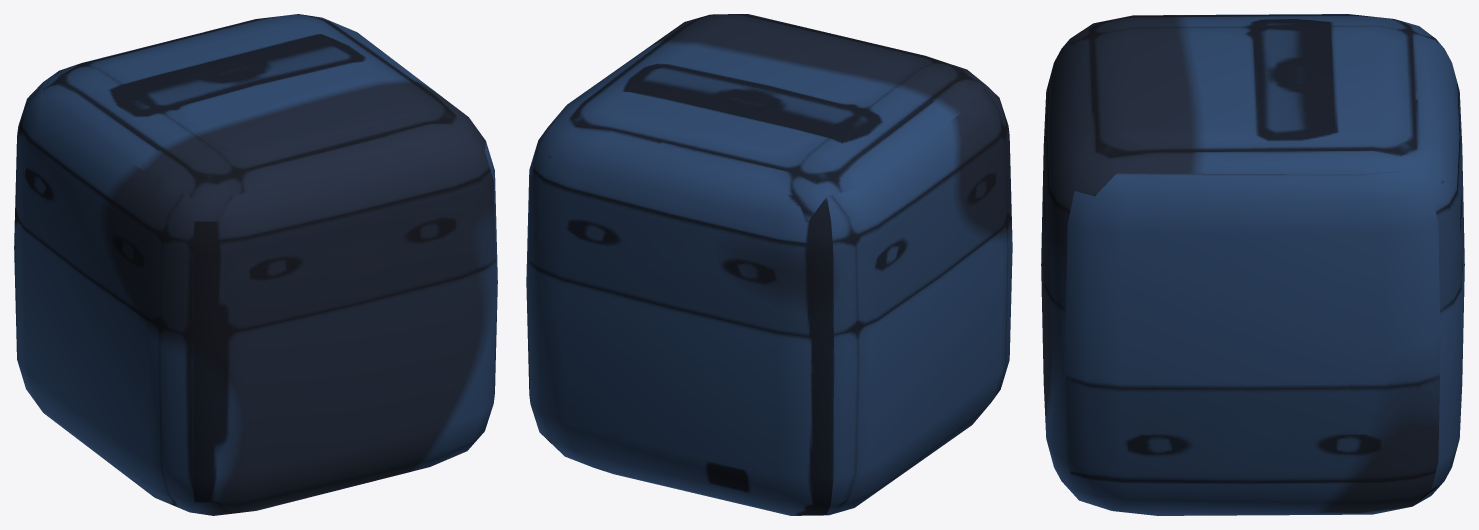
The model's file is Tano_MangaArribaDer.fbx.
3 renders of one model, left to right at view 1: azimuth 30°, elevation 25°; view 2: azimuth 150°, elevation 25°; view 3: azimuth 270°, elevation 25°, orthographic. The views are drawn at different scales.
Visible parts, largest first — view 1: Tano_MangaArribaDer; view 2: Tano_MangaArribaDer; view 3: Tano_MangaArribaDer.
Part boxes in pixels (x1=…): Tano_MangaArribaDer: x1=14, y1=14, x2=497, y2=515; Tano_MangaArribaDer: x1=526, y1=14, x2=1012, y2=515; Tano_MangaArribaDer: x1=1041, y1=14, x2=1464, y2=515.
Bounding box in the file's own units: 1.25 × 1.24 × 1.25.
